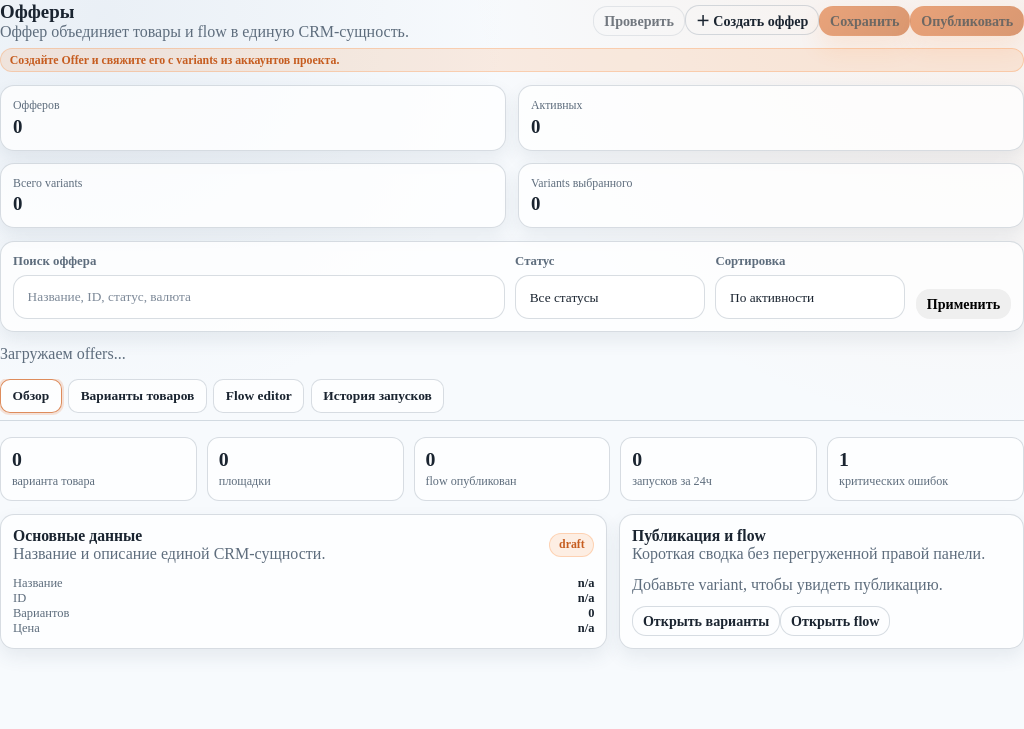
Scenario: ProjectOffersPanel permissions › во вкладке flow использует ReactFlow canvas для owner
Click the button "Flow editor" at (259, 396), box x1=213 y1=379 x2=304 y2=413
(page scrolled)
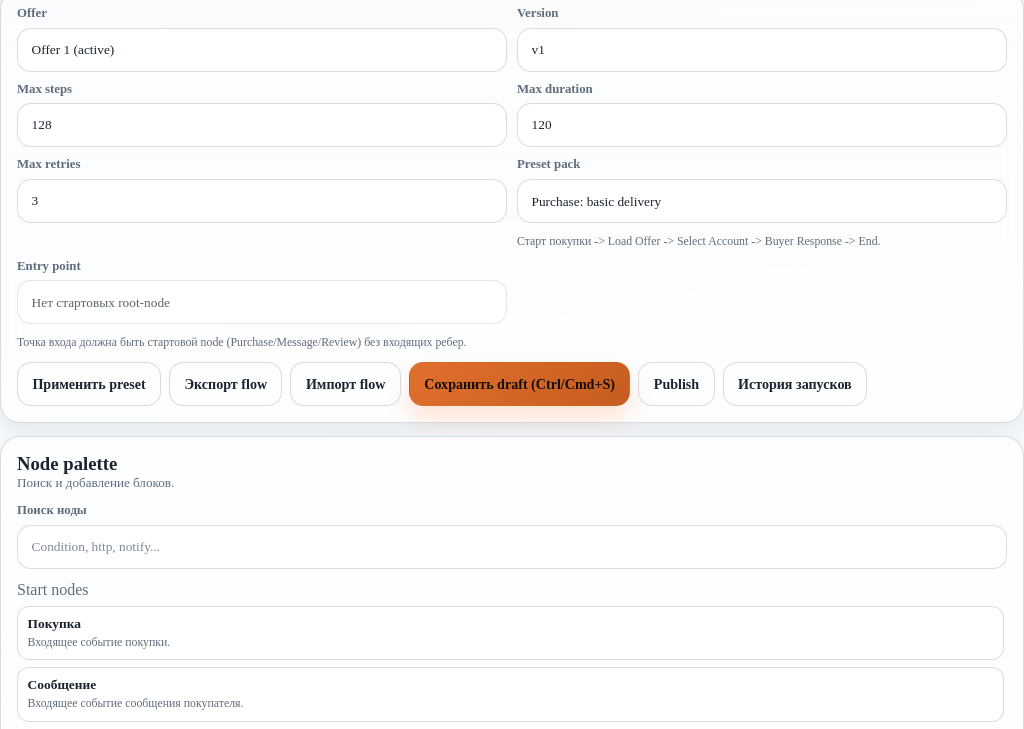
Now the heading "Node palette" is shown, box x1=17 y1=453 x2=117 y2=474
Now the button "Сохранить draft (Ctrl/Cmd+S)" is shown, box x1=409 y1=362 x2=630 y2=406
